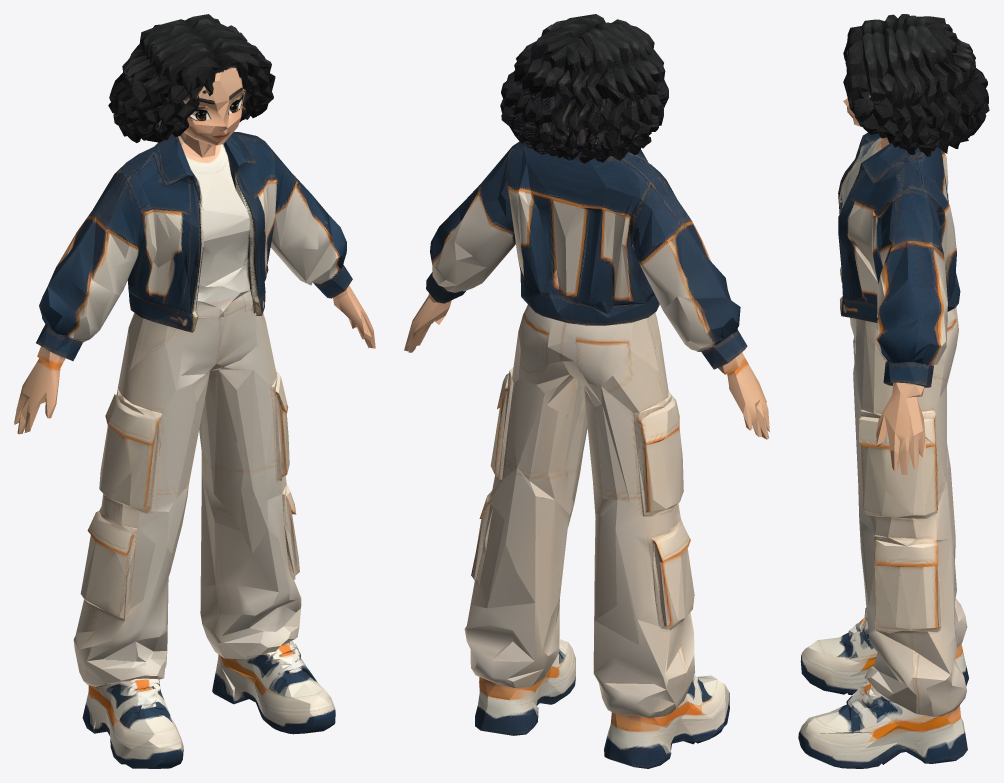
The model's file is maya_meshy_apose.glb.
The picture shows the model from 3 angles, left to right: view 1: azimuth 30°, elevation 25°; view 2: azimuth 150°, elevation 25°; view 3: azimuth 270°, elevation 25°; orthographic projection.
Size of the model in its own units: 1.01 by 1.9 by 0.4713.
Materials: 1 (1 with a texture image).
